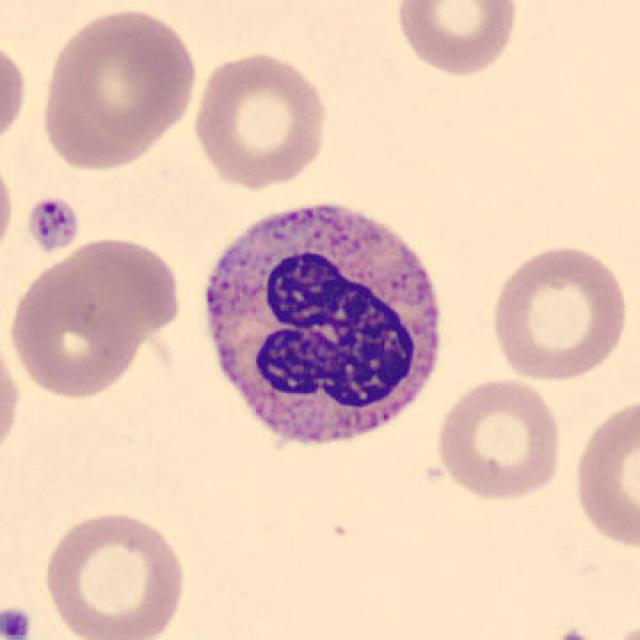Neutrophil: (191, 183, 454, 471)
Platelets: (25, 194, 82, 254), (0, 603, 36, 640), (551, 626, 597, 640)
RBC: (2, 233, 170, 402), (35, 4, 201, 168), (485, 240, 631, 384), (188, 48, 332, 190), (39, 506, 190, 640), (430, 374, 566, 504), (569, 392, 640, 554), (391, 0, 522, 79), (0, 30, 30, 155), (0, 323, 25, 469), (0, 144, 18, 272)
